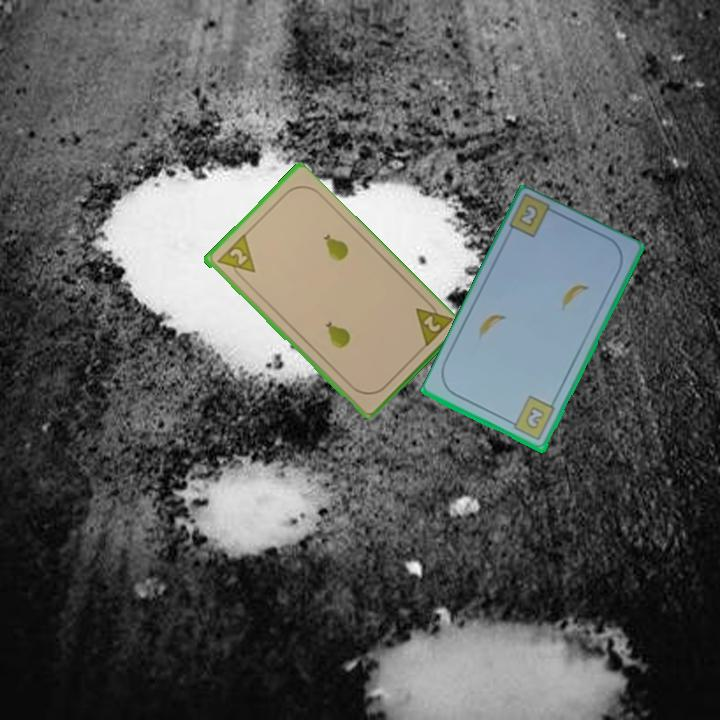2b: (505, 393, 558, 444), (515, 201, 541, 230)
2p: (212, 232, 258, 284), (419, 312, 444, 335)
